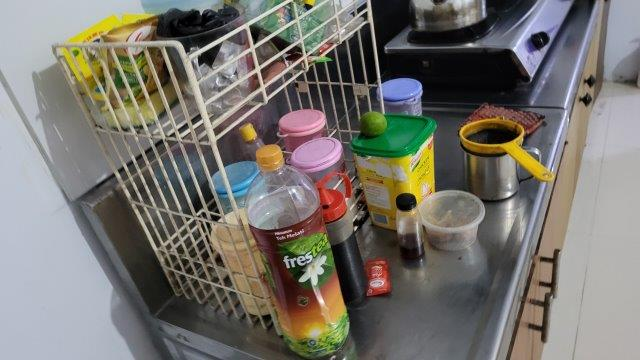botolplastik: (243, 144, 349, 358)
